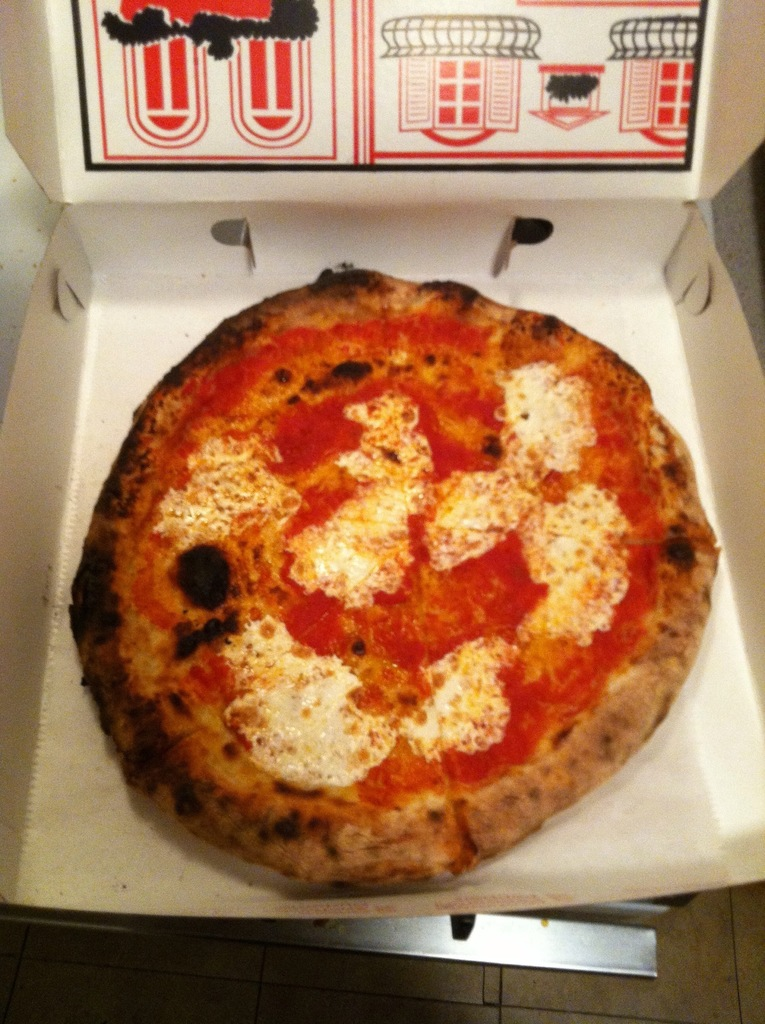Pizza: (71, 260, 722, 888)
